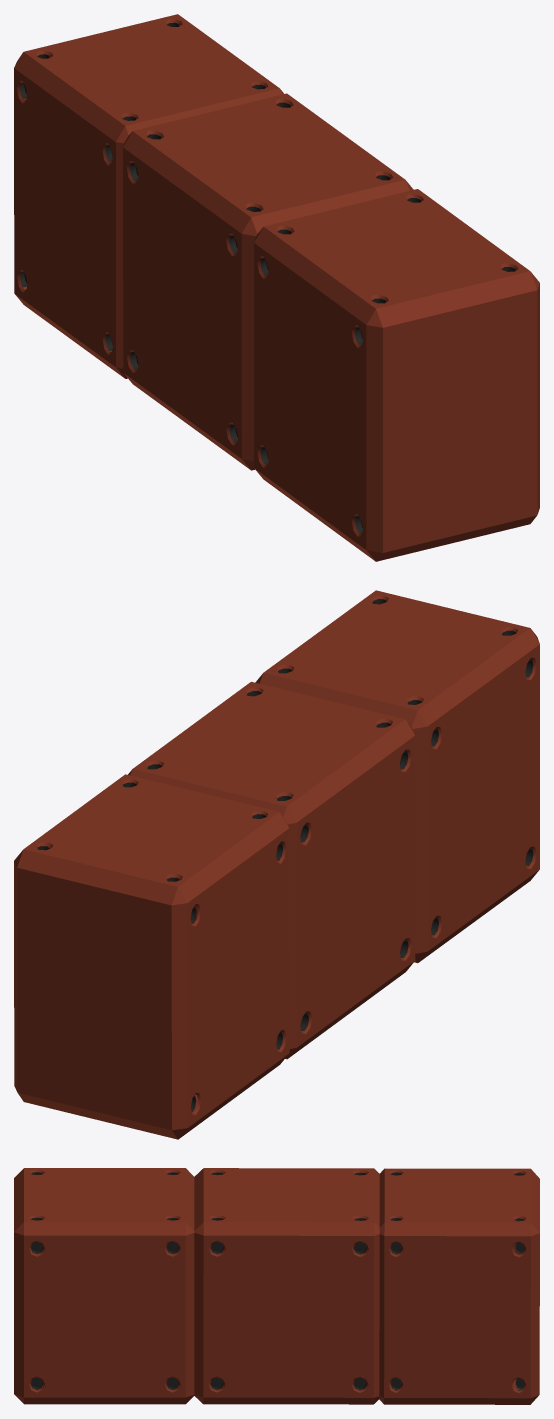
File: Block.fbx
3 renders of one model, top to bottom at view 1: azimuth 30°, elevation 25°; view 2: azimuth 150°, elevation 25°; view 3: azimuth 270°, elevation 25°, orthographic. The views are drawn at different scales.
Visible parts, largest first — view 1: i_KB1__std_i_KB_body, i_KB1__std_i_KB_body.001, i_KB1__std_i_KB_body.002, i_KB1__std_i_KB_conect.001, i_KB1__std_i_KB_conect; view 2: i_KB1__std_i_KB_body.002, i_KB1__std_i_KB_body.001, i_KB1__std_i_KB_body, i_KB1__std_i_KB_conect.001, i_KB1__std_i_KB_conect; view 3: i_KB1__std_i_KB_body.001, i_KB1__std_i_KB_body, i_KB1__std_i_KB_body.002, i_KB1__std_i_KB_conect.001, i_KB1__std_i_KB_conect, i_KB1__std_i_KB_conect.002.
Boxes of the visible parts, left/top/right/bottom form: i_KB1__std_i_KB_body: left=254, top=189, right=539, bottom=561; i_KB1__std_i_KB_body.001: left=123, top=93, right=413, bottom=470; i_KB1__std_i_KB_body.002: left=14, top=14, right=283, bottom=378; i_KB1__std_i_KB_conect.001: left=130, top=102, right=390, bottom=442; i_KB1__std_i_KB_conect: left=260, top=198, right=515, bottom=533; i_KB1__std_i_KB_body.002: left=14, top=774, right=289, bottom=1139; i_KB1__std_i_KB_body.001: left=128, top=681, right=415, bottom=1059; i_KB1__std_i_KB_body: left=255, top=590, right=539, bottom=963; i_KB1__std_i_KB_conect.001: left=147, top=691, right=408, bottom=1030; i_KB1__std_i_KB_conect: left=278, top=599, right=533, bottom=935; i_KB1__std_i_KB_body.001: left=194, top=1168, right=379, bottom=1404; i_KB1__std_i_KB_body: left=14, top=1168, right=194, bottom=1404; i_KB1__std_i_KB_body.002: left=379, top=1168, right=539, bottom=1404; i_KB1__std_i_KB_conect.001: left=210, top=1172, right=366, bottom=1390; i_KB1__std_i_KB_conect: left=30, top=1172, right=178, bottom=1390; i_KB1__std_i_KB_conect.002: left=390, top=1172, right=524, bottom=1390.
Size of the model in its own units: 69 by 96.48 by 252.
